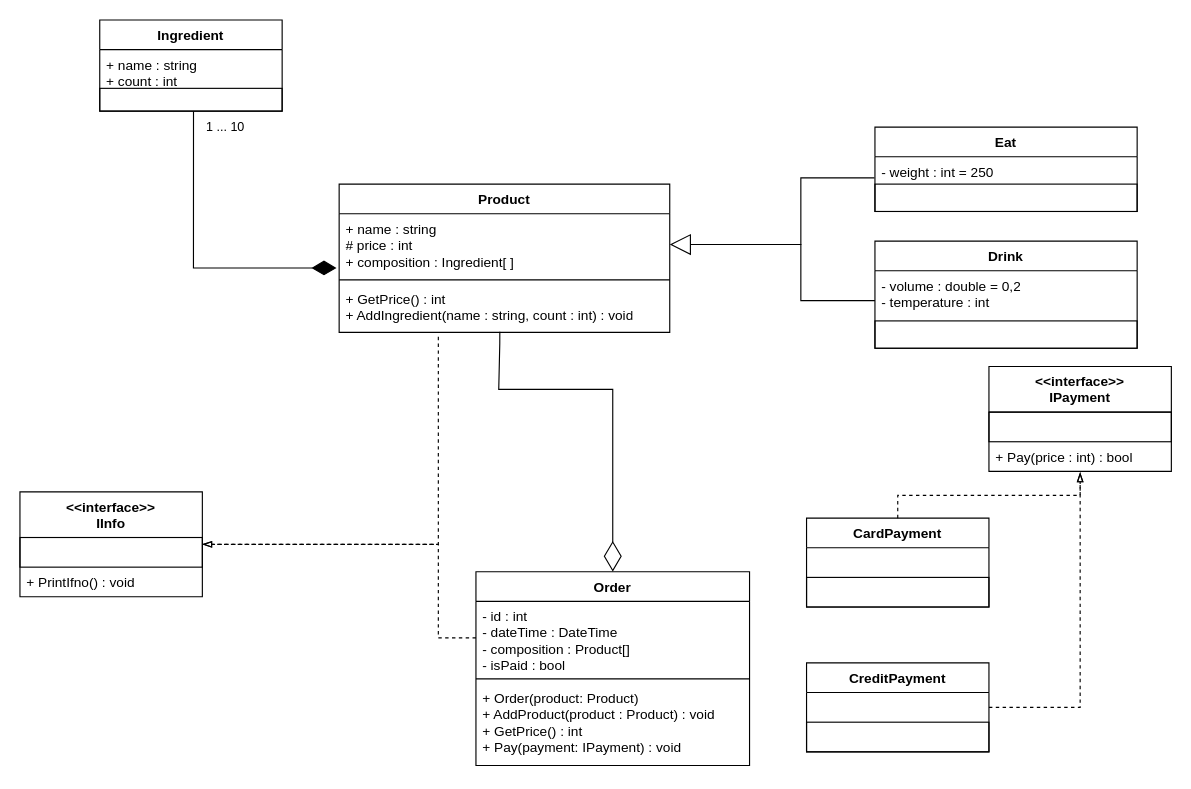
Image size: 1191x789. Some labels were removed from this diagram. Here are the shapes that lost their labels. From the top down, the centre of each, then its label:
the point at 1005,197: + ChangeWeight(weight : int) : void
the point at 1005,334: + ChangeVolume(volume : double) : void
